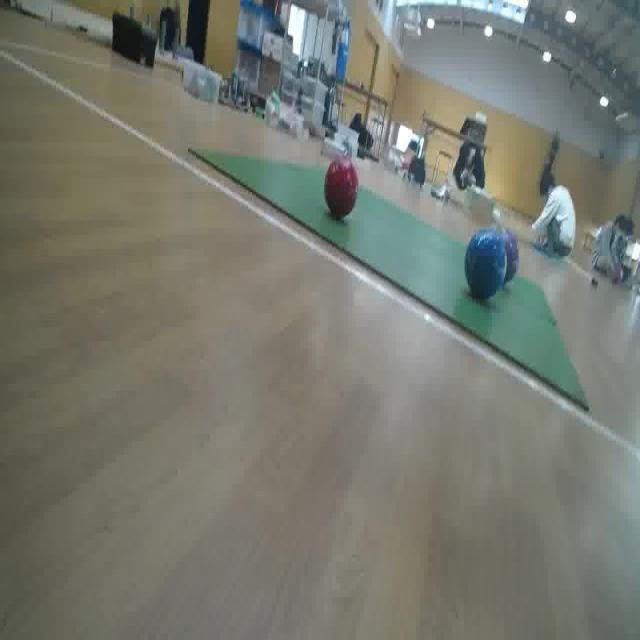blue_ball: (465, 227, 507, 310)
purple_ball: (486, 221, 524, 286)
red_ball: (322, 158, 362, 224)
